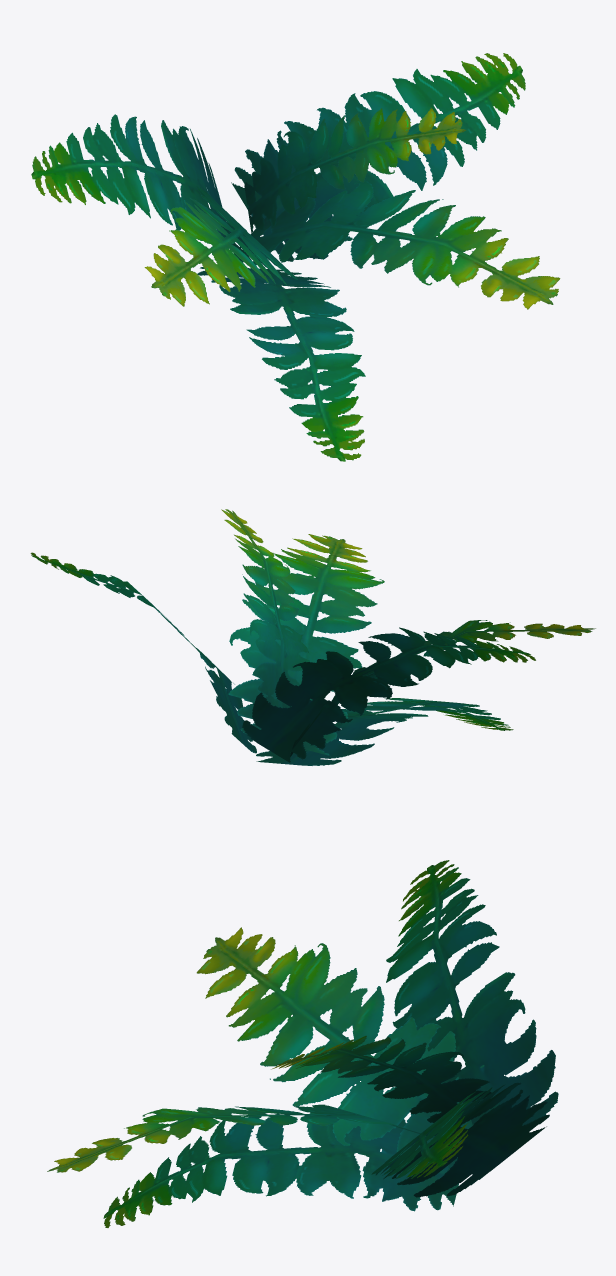
The model's file is huacao13.FBX.
The picture shows the model from 3 angles, top to bottom: view 1: azimuth 30°, elevation 25°; view 2: azimuth 150°, elevation 25°; view 3: azimuth 270°, elevation 25°; orthographic projection. The views are drawn at different scales.
Parts seen in each view (by area): view 1: huacao13; view 2: huacao13; view 3: huacao13.
Part boxes in pixels (bbox=[...]): huacao13: bbox=[31, 53, 560, 461]; huacao13: bbox=[30, 509, 595, 765]; huacao13: bbox=[47, 860, 558, 1227].
Size of the model in its own units: 2499 by 1300 by 2145.
